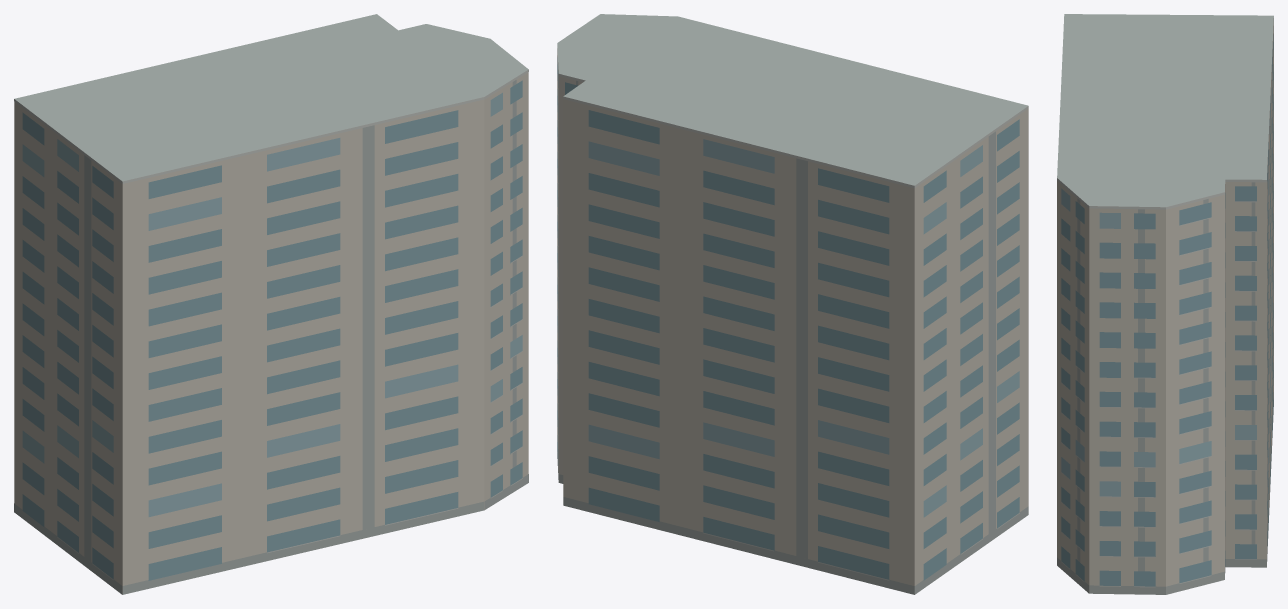
Rendered from residential-10c0b0cd-c8c1-4f54-ac19-0b9361a93afa.glb.
3 views of the same model, side by side, from view 1: azimuth 30°, elevation 25°; view 2: azimuth 150°, elevation 25°; view 3: azimuth 270°, elevation 25° (orthographic). The views are drawn at different scales.
Visible parts, largest first — view 1: residential-10c0b0cd-c8c1-4f54-ac19-0b9361a93afa.tmp; view 2: residential-10c0b0cd-c8c1-4f54-ac19-0b9361a93afa.tmp; view 3: residential-10c0b0cd-c8c1-4f54-ac19-0b9361a93afa.tmp.
Part boxes in pixels (x1,y1,x2,y2): residential-10c0b0cd-c8c1-4f54-ac19-0b9361a93afa.tmp: (14, 14, 528, 594); residential-10c0b0cd-c8c1-4f54-ac19-0b9361a93afa.tmp: (557, 14, 1028, 594); residential-10c0b0cd-c8c1-4f54-ac19-0b9361a93afa.tmp: (1057, 14, 1273, 594).
Bounding box in the file's own units: 41.69 × 39 × 19.78.
